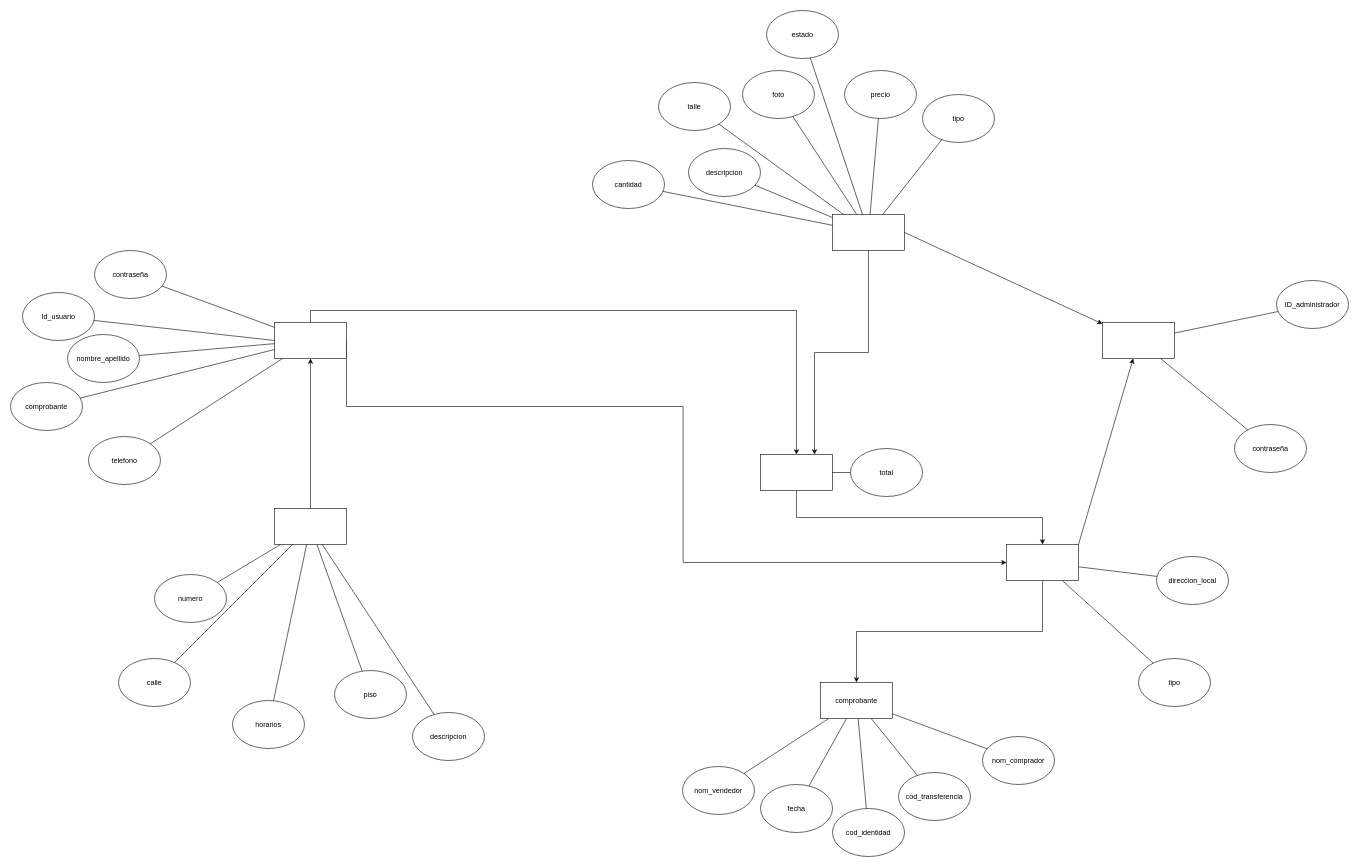
The diagram is 1359 pixels wide and 867 high, and some of its shapes have lost their labels. The shapes that lost their labels are listed below. From the top down, each one's centre as x and y in pixels, then its label:
the point at 868,232: prendas
the point at 310,340: usuario
the point at 1138,340: administrador
the point at 796,472: carrito
the point at 310,526: direccion
the point at 1042,562: ticket
